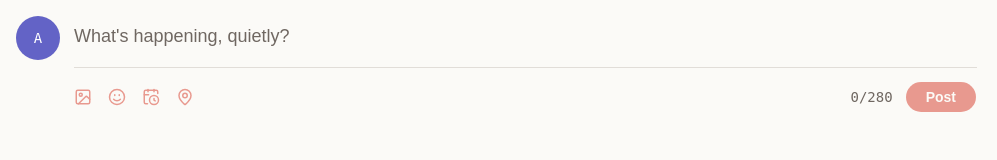
Scenario: Composer › submitting › shows a 400 validation message array joined, and keeps the text
Expected: the picture named "@ada" is shown, [16,16,60,60]
In the text box named "Compose a new post": x=526, y=38 [74,16,977,59], type "Hello flock"
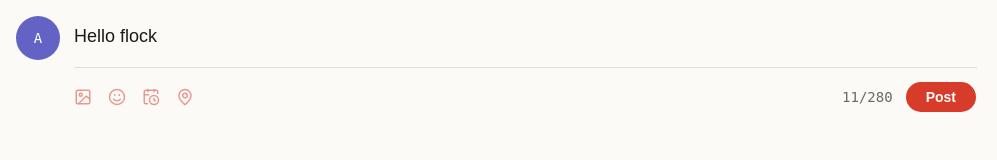
Click the button "Post": x=941, y=97 [905,81,977,113]
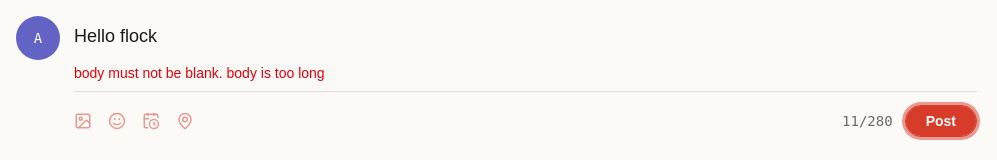
Now the button "Post" is enabled, box [905,105,977,137]
Now the message reads "body must not be blank. body is too long", box [74,65,325,81]
